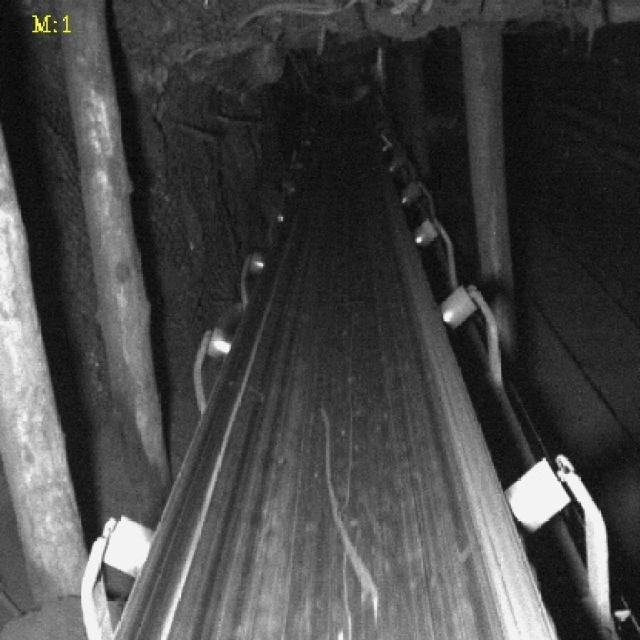bolt: (315, 403, 388, 608)
